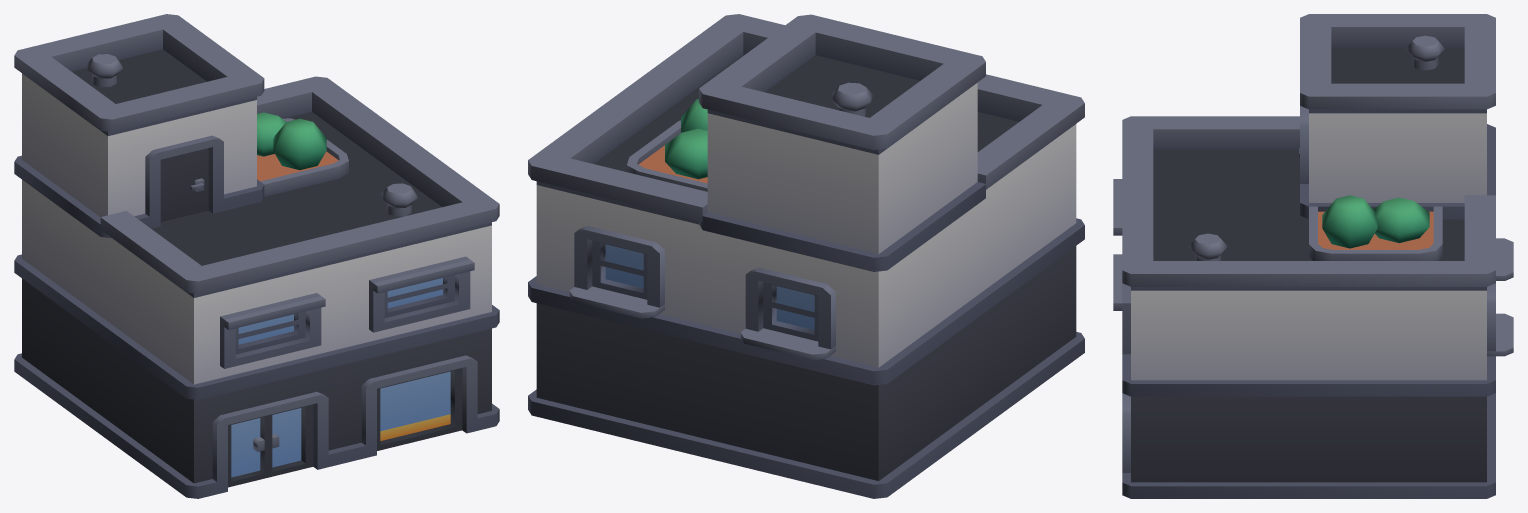
File: shopB.glb
3 views of the same model, side by side, from view 1: azimuth 30°, elevation 25°; view 2: azimuth 150°, elevation 25°; view 3: azimuth 270°, elevation 25° (orthographic). The views are drawn at different scales.
Parts seen in each view (by area): view 1: shopB; view 2: shopB; view 3: shopB.
Part boxes in pixels (x1,y1,x2,y2): shopB: [14, 14, 499, 498]; shopB: [528, 14, 1084, 498]; shopB: [1113, 14, 1513, 498].
Size of the model in its own units: 8.2 by 8 by 8.79.
